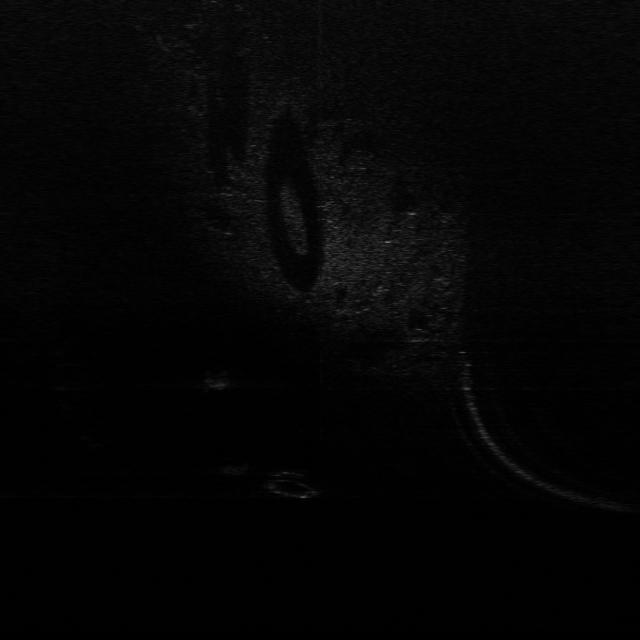cube: (214, 458, 247, 477)
square cage: (198, 368, 236, 392)
tyre: (260, 466, 324, 498)
